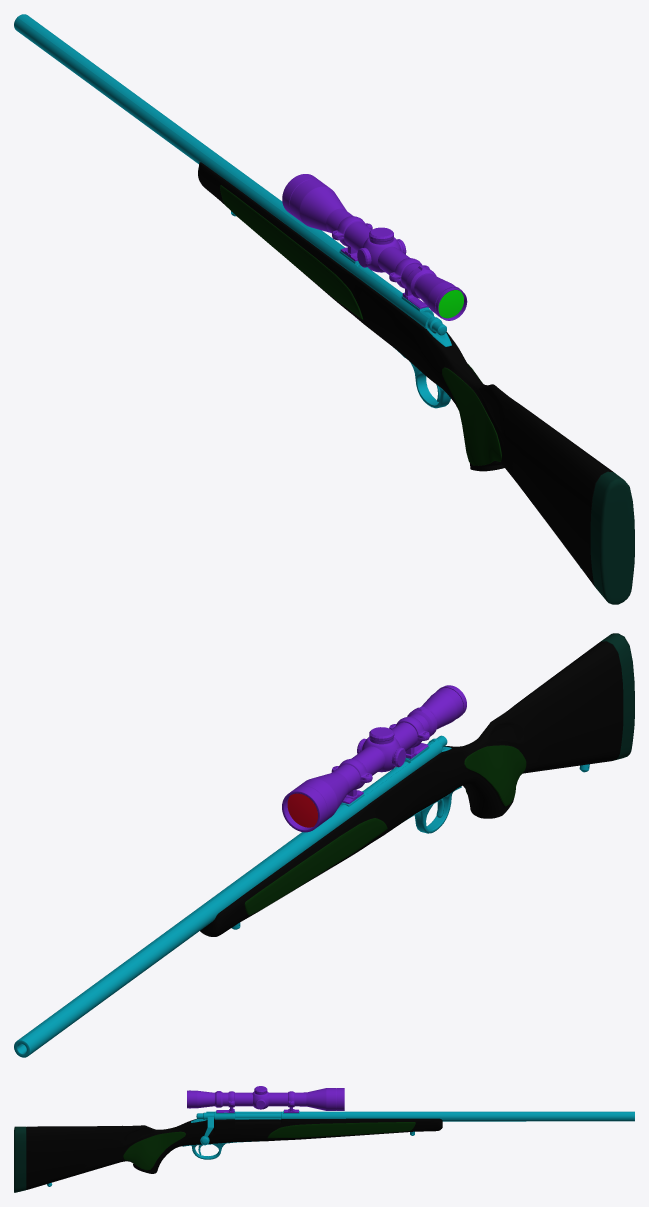
Rendered from Remington700.fbx.
The picture shows the model from 3 angles, top to bottom: view 1: azimuth 30°, elevation 25°; view 2: azimuth 150°, elevation 25°; view 3: azimuth 270°, elevation 25°; orthographic projection. The views are drawn at different scales.
Visible parts, largest first — view 1: pCube19; view 2: pCube19; view 3: pCube19.
Boxes of the visible parts, x1,y1,x2,y2 form: pCube19: (14, 14, 634, 604); pCube19: (14, 633, 634, 1057); pCube19: (14, 1086, 634, 1192).
Size of the model in its own units: 8.2 by 36.88 by 200.
